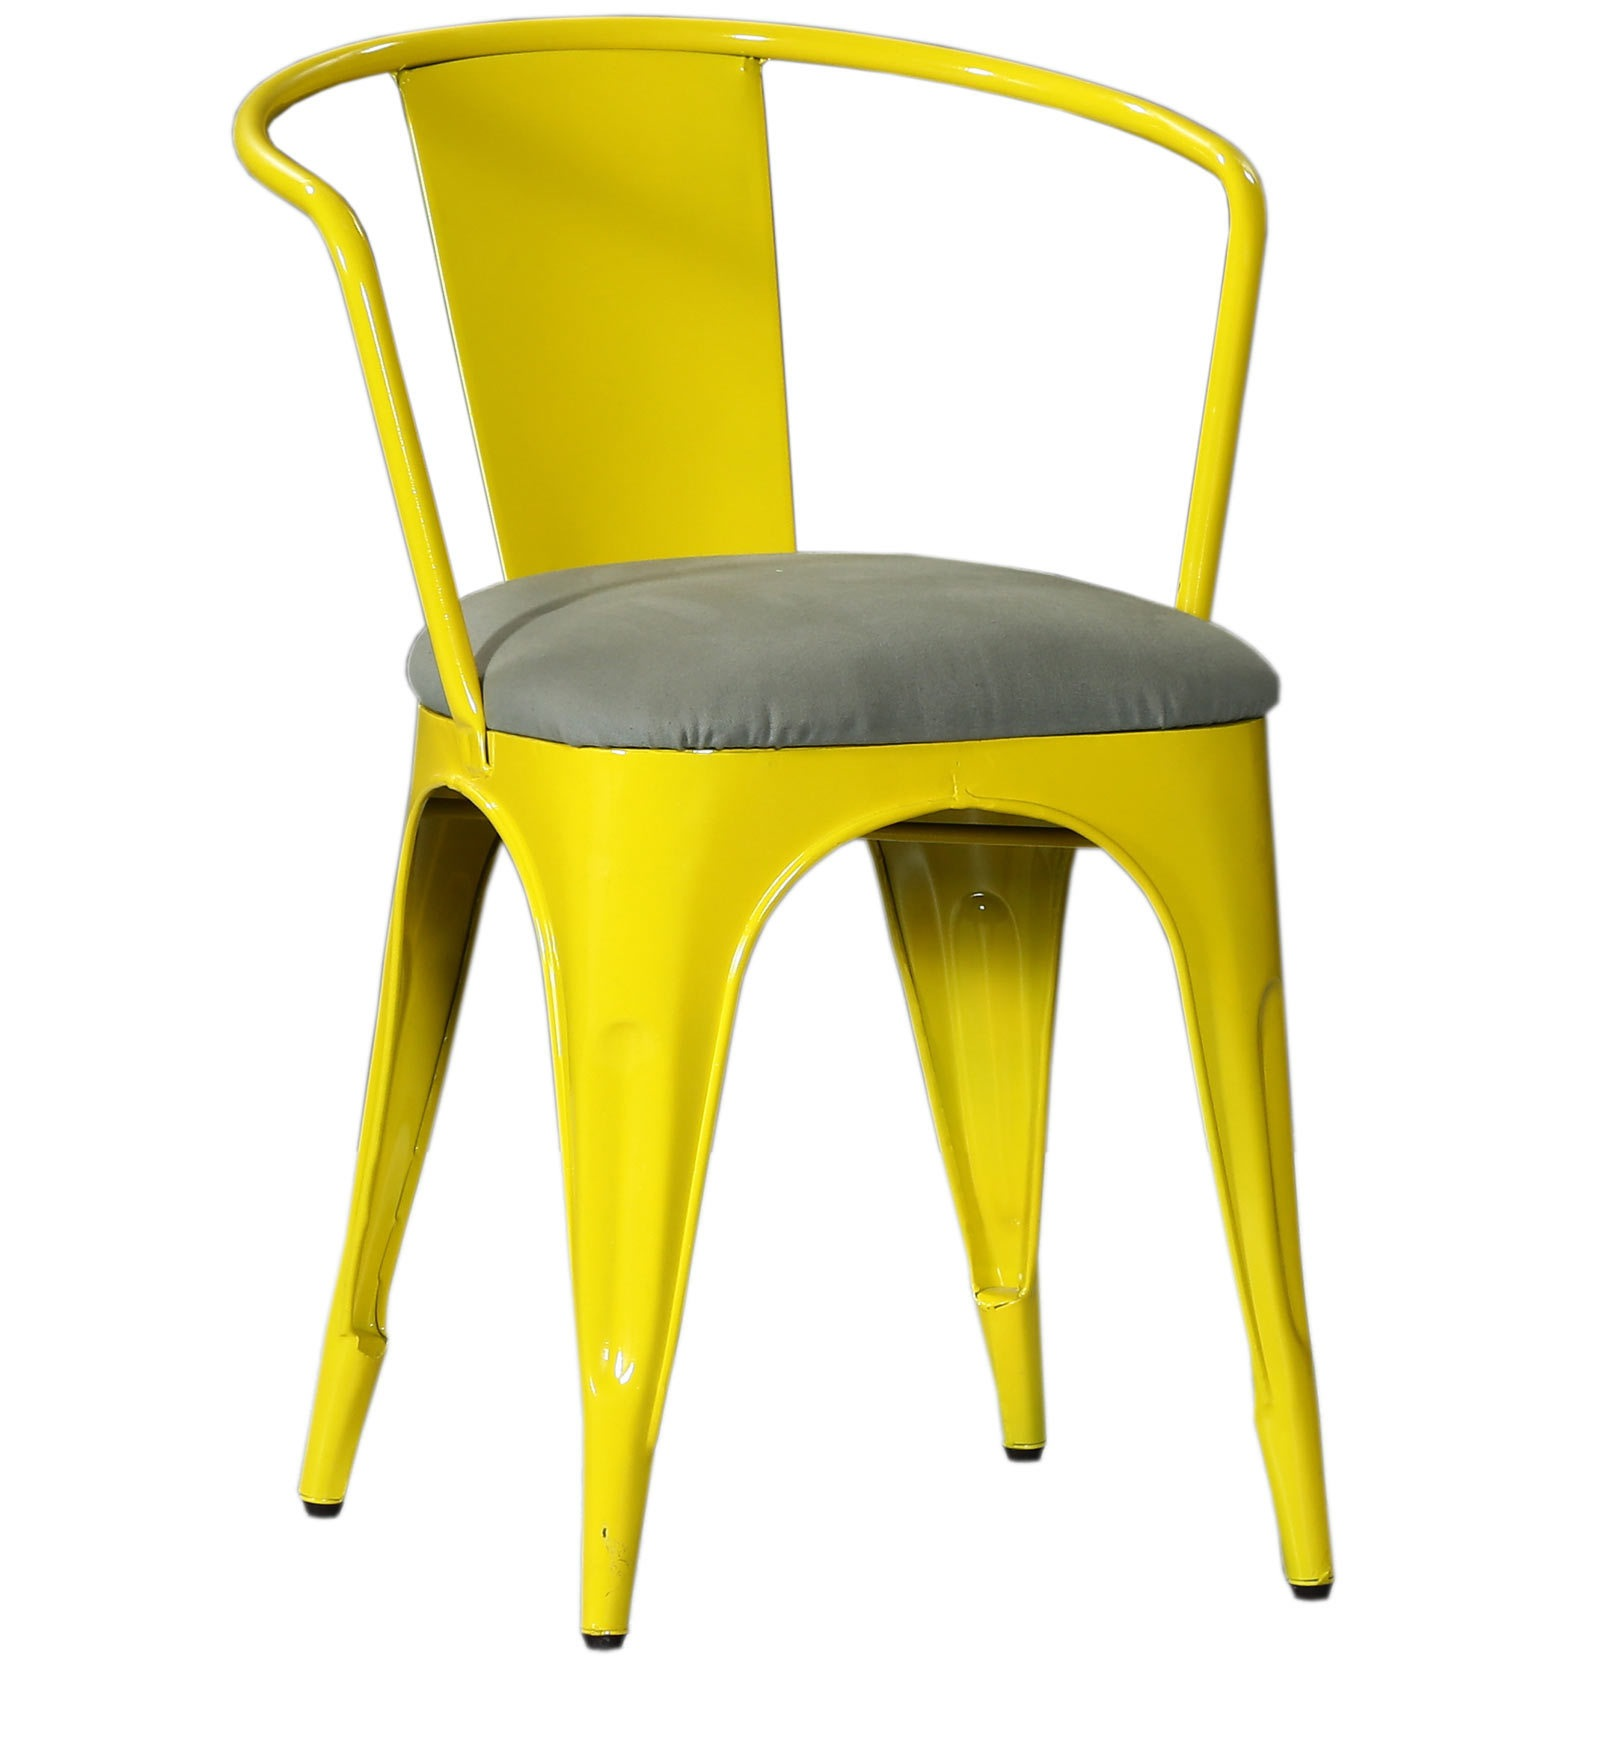Danlou Metal Chair with Cushion in Yellow Color by Bohemiana: (130, 34, 1405, 1657)
